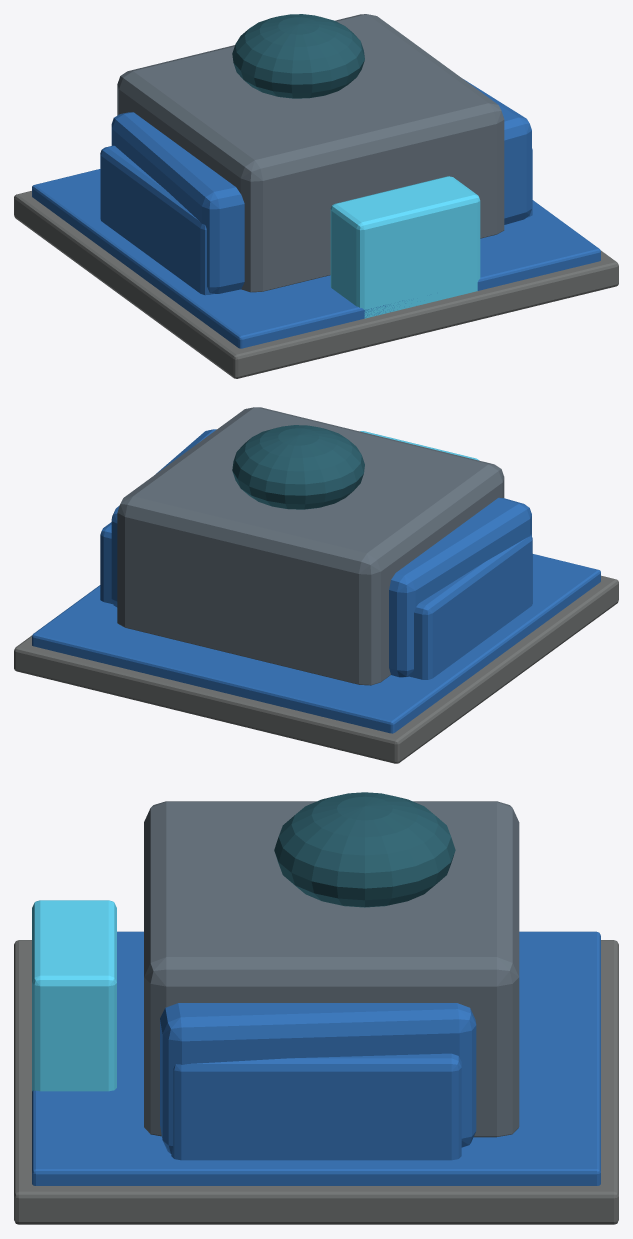
File: SM_Alliance_AL_Barracks.fbx
3 renders of one model, top to bottom at view 1: azimuth 30°, elevation 25°; view 2: azimuth 150°, elevation 25°; view 3: azimuth 270°, elevation 25°, orthographic. The views are drawn at different scales.
Visible parts, largest first — view 1: SM_Alliance_AL_Barracks_MainMass, SM_Alliance_AL_Barracks_FoundationTrim, SM_Alliance_AL_Barracks, SM_Alliance_AL_Barracks_Entrance, SM_Alliance_AL_Barracks_Module_-1, SM_Alliance_AL_Barracks_SensorDome, SM_Alliance_AL_Barracks_BunkerWing_-1, SM_Alliance_AL_Barracks_Module_+1; view 2: SM_Alliance_AL_Barracks_MainMass, SM_Alliance_AL_Barracks_FoundationTrim, SM_Alliance_AL_Barracks, SM_Alliance_AL_Barracks_BunkerWing_-1, SM_Alliance_AL_Barracks_SensorDome, SM_Alliance_AL_Barracks_Module_-1, SM_Alliance_AL_Barracks_Module_+1, SM_Alliance_AL_Barracks_BunkerWing_+1; view 3: SM_Alliance_AL_Barracks_MainMass, SM_Alliance_AL_Barracks_FoundationTrim, SM_Alliance_AL_Barracks, SM_Alliance_AL_Barracks_BunkerWing_+1, SM_Alliance_AL_Barracks_Module_+1, SM_Alliance_AL_Barracks_SensorDome, SM_Alliance_AL_Barracks_Entrance.
Boxes of the visible parts, x1,y1,x2,y2 form: SM_Alliance_AL_Barracks_MainMass: [117, 14, 504, 292]; SM_Alliance_AL_Barracks_FoundationTrim: [32, 169, 600, 348]; SM_Alliance_AL_Barracks: [14, 191, 618, 378]; SM_Alliance_AL_Barracks_Entrance: [330, 176, 480, 318]; SM_Alliance_AL_Barracks_Module_-1: [111, 112, 244, 293]; SM_Alliance_AL_Barracks_SensorDome: [232, 14, 364, 98]; SM_Alliance_AL_Barracks_BunkerWing_-1: [100, 145, 213, 295]; SM_Alliance_AL_Barracks_Module_+1: [463, 79, 531, 224]; SM_Alliance_AL_Barracks_MainMass: [117, 407, 504, 685]; SM_Alliance_AL_Barracks_FoundationTrim: [32, 554, 600, 733]; SM_Alliance_AL_Barracks: [14, 575, 618, 763]; SM_Alliance_AL_Barracks_BunkerWing_-1: [410, 534, 532, 679]; SM_Alliance_AL_Barracks_SensorDome: [232, 425, 364, 509]; SM_Alliance_AL_Barracks_Module_-1: [389, 497, 531, 677]; SM_Alliance_AL_Barracks_Module_+1: [111, 429, 216, 607]; SM_Alliance_AL_Barracks_BunkerWing_+1: [100, 522, 112, 604]; SM_Alliance_AL_Barracks_MainMass: [144, 801, 519, 1137]; SM_Alliance_AL_Barracks_FoundationTrim: [32, 931, 600, 1185]; SM_Alliance_AL_Barracks: [14, 940, 618, 1224]; SM_Alliance_AL_Barracks_BunkerWing_+1: [171, 1053, 461, 1160]; SM_Alliance_AL_Barracks_Module_+1: [160, 1003, 476, 1153]; SM_Alliance_AL_Barracks_SensorDome: [274, 792, 455, 907]; SM_Alliance_AL_Barracks_Entrance: [32, 900, 116, 1091].
Size of what is drawn, in the model's own units: 600 by 600 by 320.
